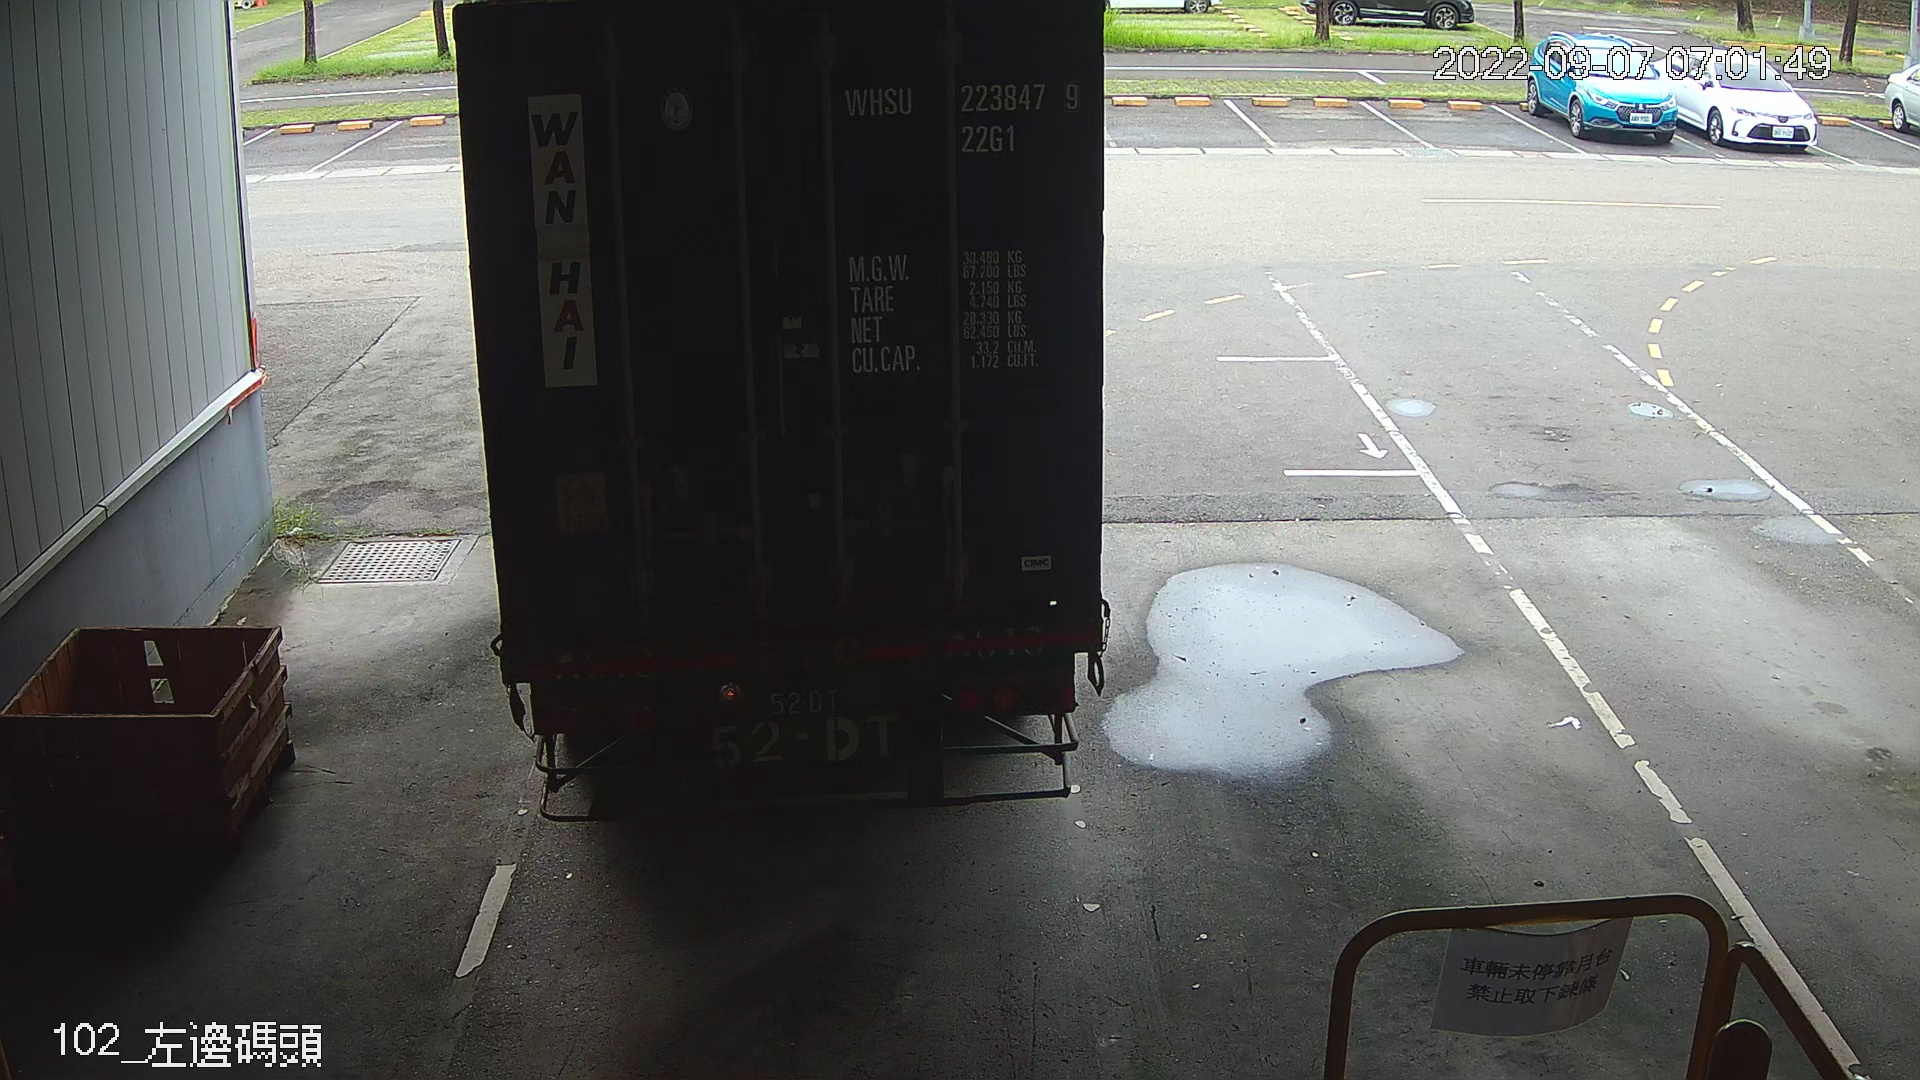container: (837, 66, 1091, 164)
